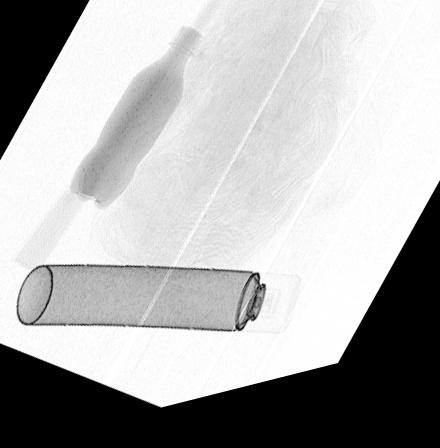Sprayer: (16, 265, 304, 348)
